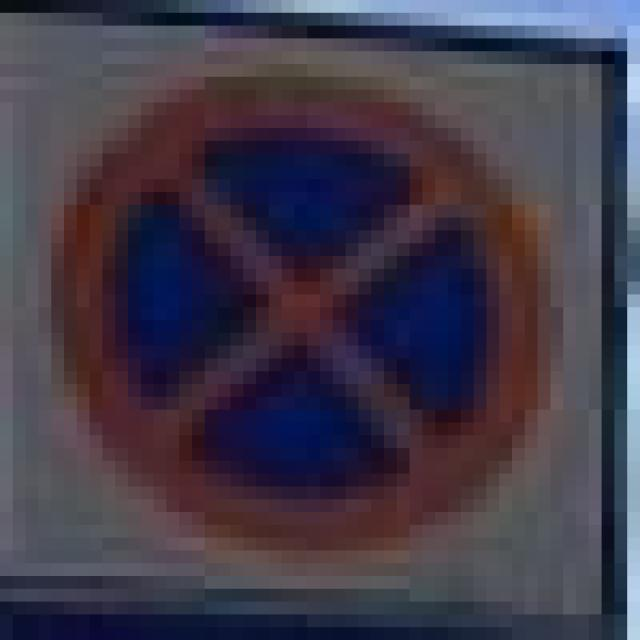no stopping or standing: (59, 78, 548, 549)
